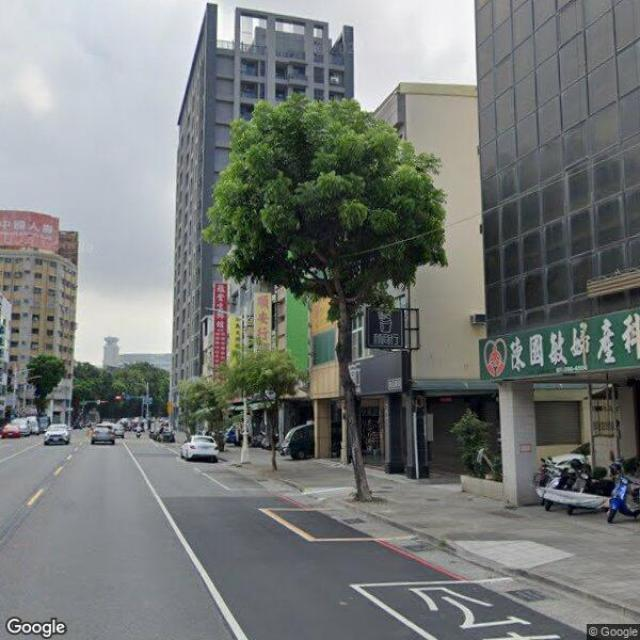Legalparking: (533, 448, 640, 524), (212, 408, 318, 462), (179, 429, 227, 473)
